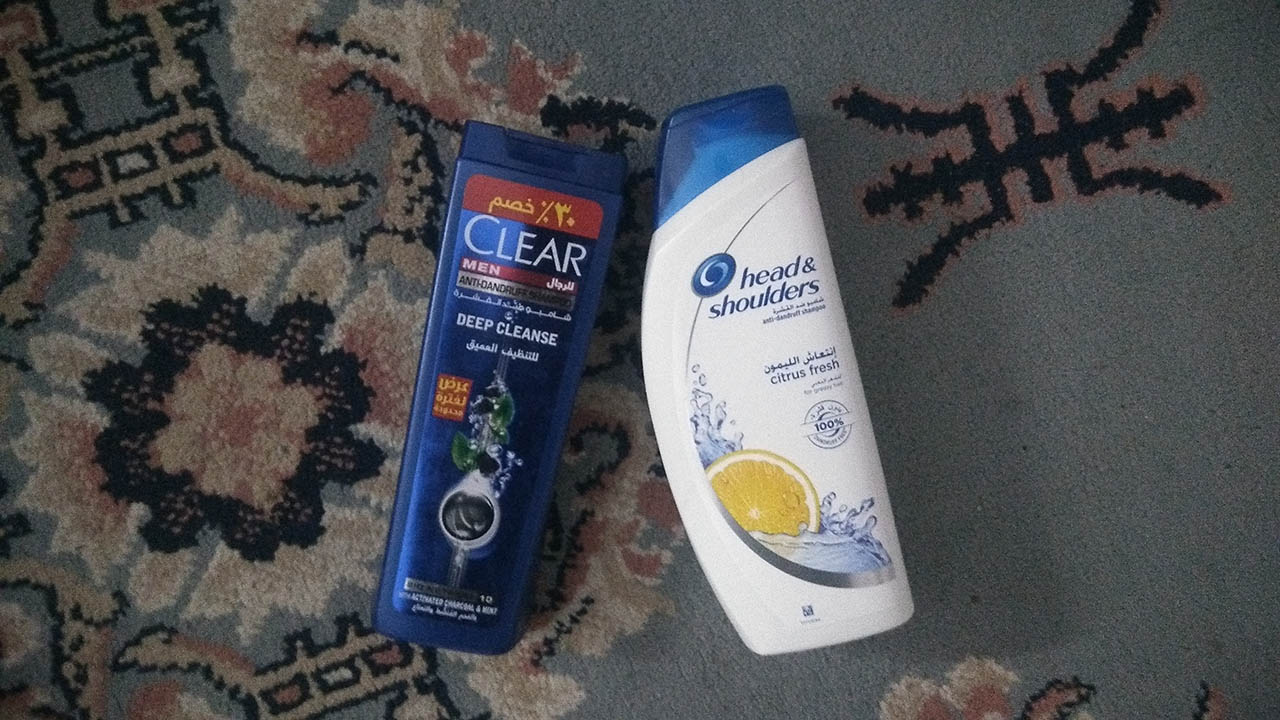Shampoo-Clear 4.7$: (386, 109, 615, 656)
shampoo-Lemon 3.5$: (647, 88, 930, 670)
